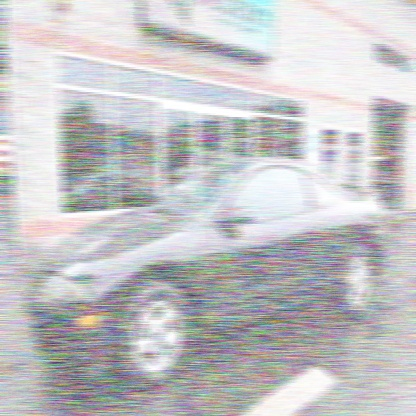Vehicle: (23, 155, 392, 395)
